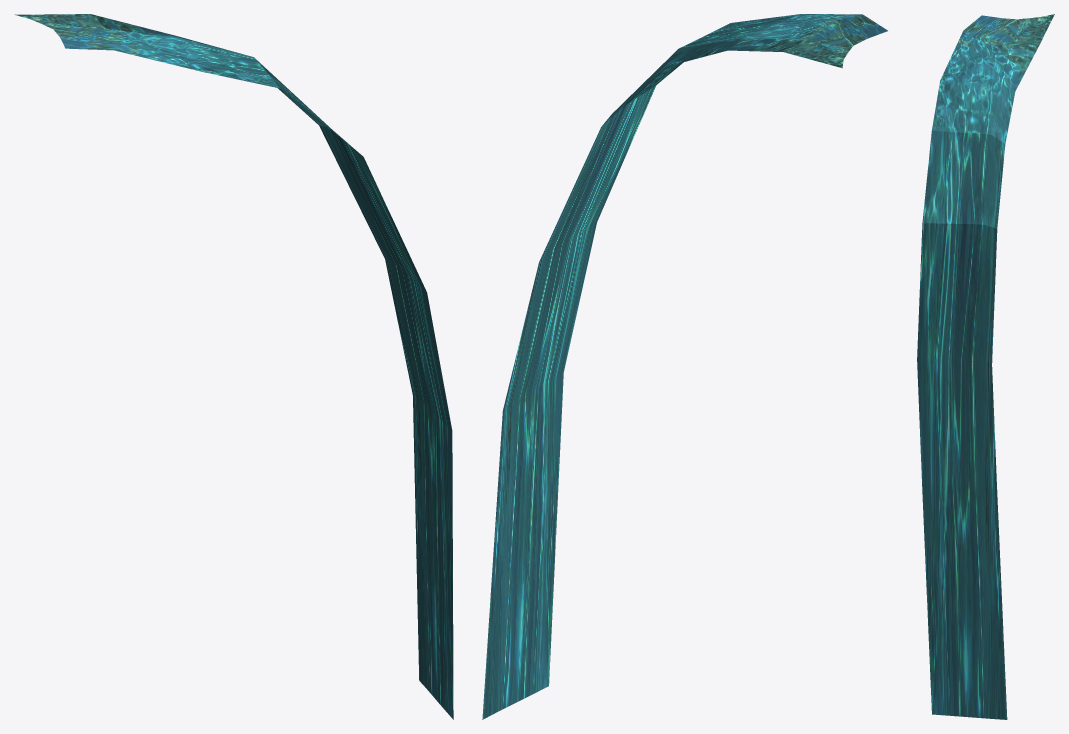
The model's file is yanjiang2.FBX.
The picture shows the model from 3 angles, left to right: view 1: azimuth 30°, elevation 25°; view 2: azimuth 150°, elevation 25°; view 3: azimuth 270°, elevation 25°; orthographic projection. The views are drawn at different scales.
Parts seen in each view (by area): view 1: Plane01; view 2: Plane01; view 3: Plane01.
Part boxes in pixels (x1,y1,x2,y2): Plane01: [14, 14, 453, 719]; Plane01: [482, 14, 887, 719]; Plane01: [917, 14, 1054, 719].
Bounding box in the file's own units: 1952 × 3664 × 809.
